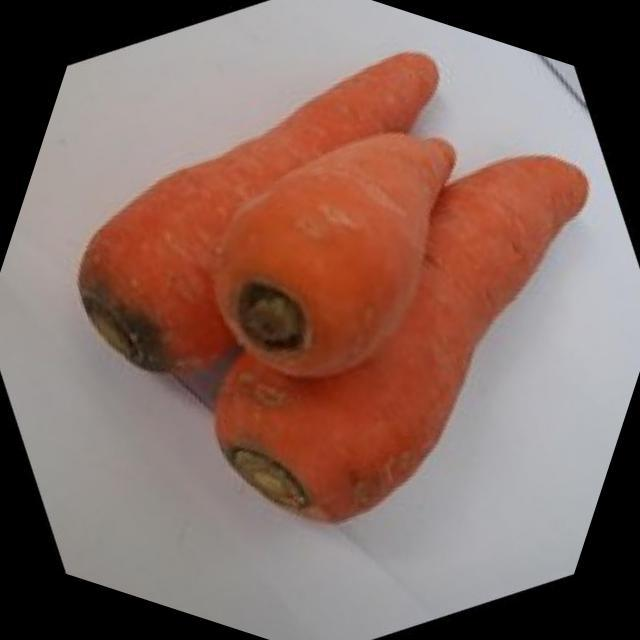carrot: (74, 5, 640, 640), (0, 0, 580, 506), (126, 40, 576, 481)
